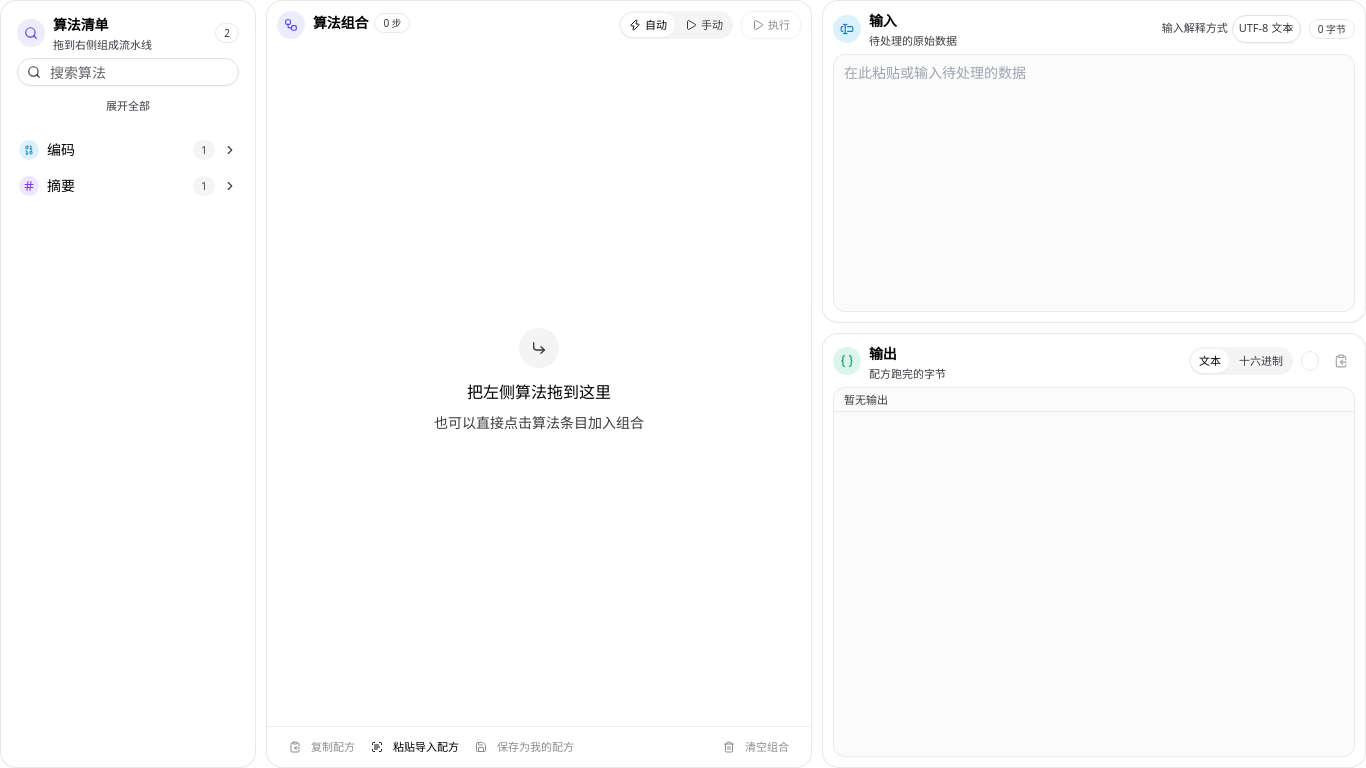
Test: 执行时不重画不该动的东西 › 输出区的节点在「无结果 / 执行中 / 有结果」三个状态里始终是同一批
This screenshot has width=1366, height=768.
Click the button "展开全部" at (128, 106), box [17,94,239,118]
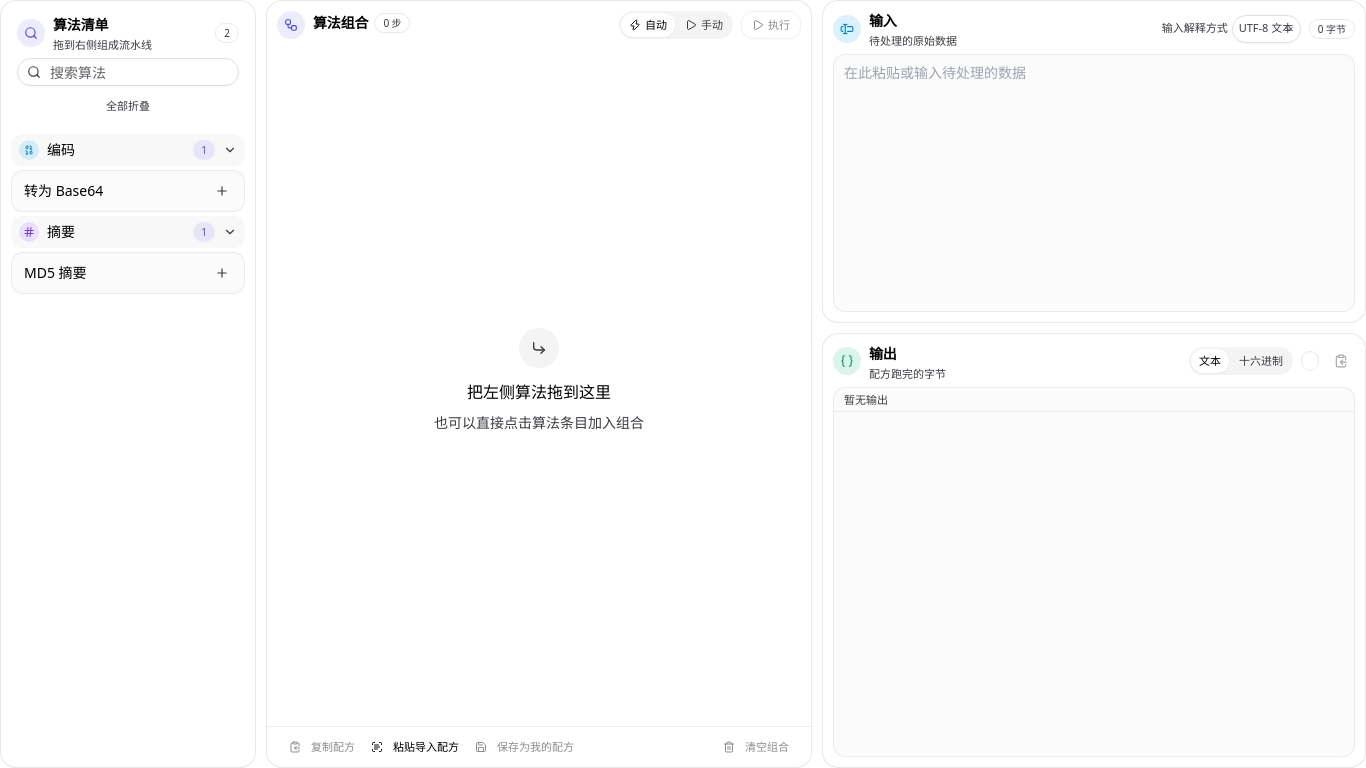
Click the button named "转为 Base64" at (222, 191), box [212,181,232,201]
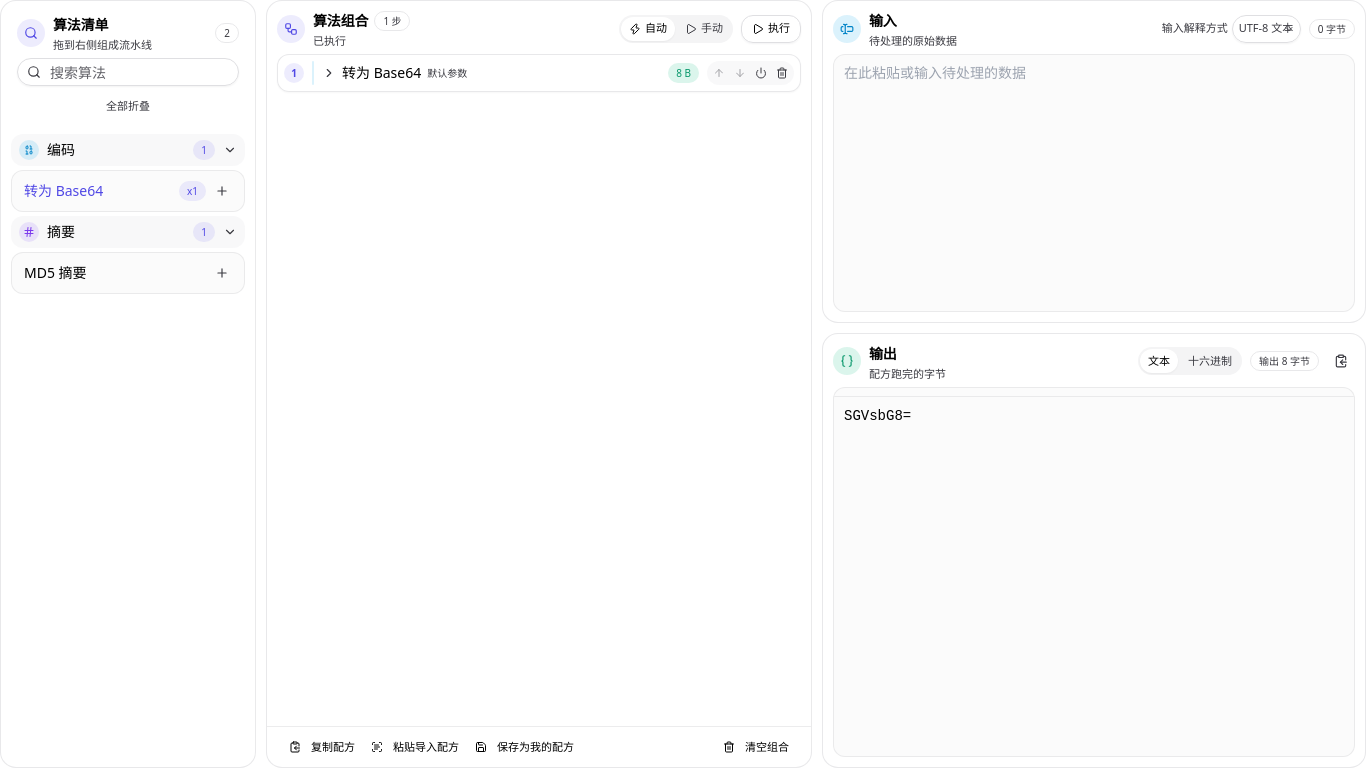
Check: the text with test id "chef-output" reads "SGVsbG8=", box [844,408,911,424]
